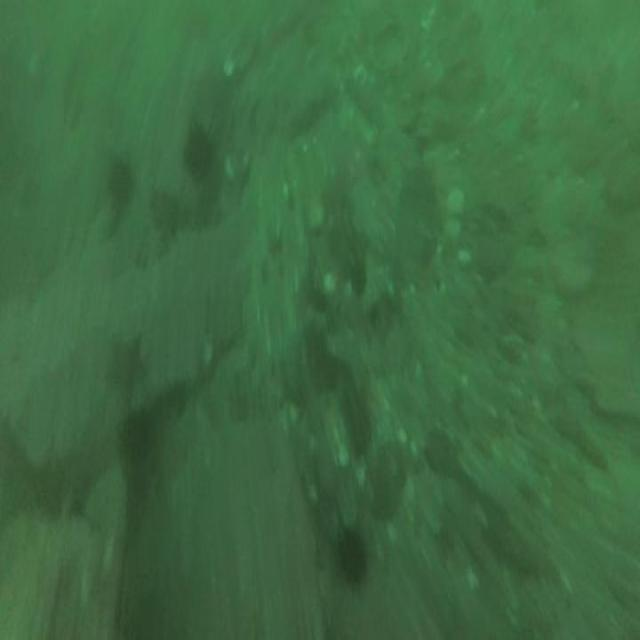echinus: (336, 526, 366, 586), (182, 126, 214, 177), (108, 162, 130, 200)
starfish: (104, 334, 145, 398)
